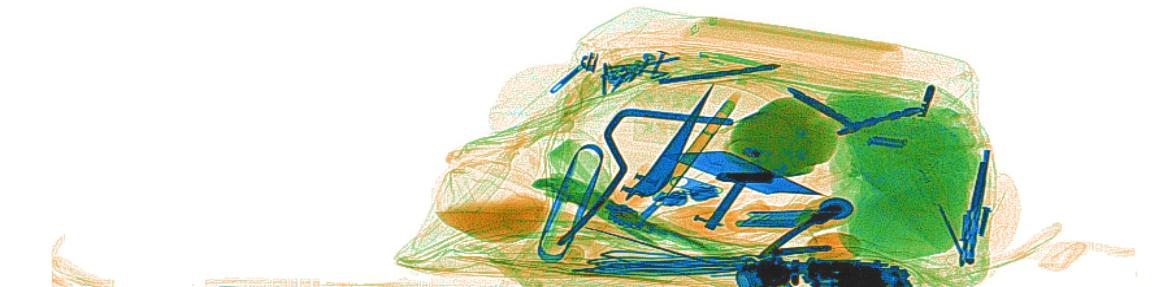knife: (724, 196, 823, 234)
